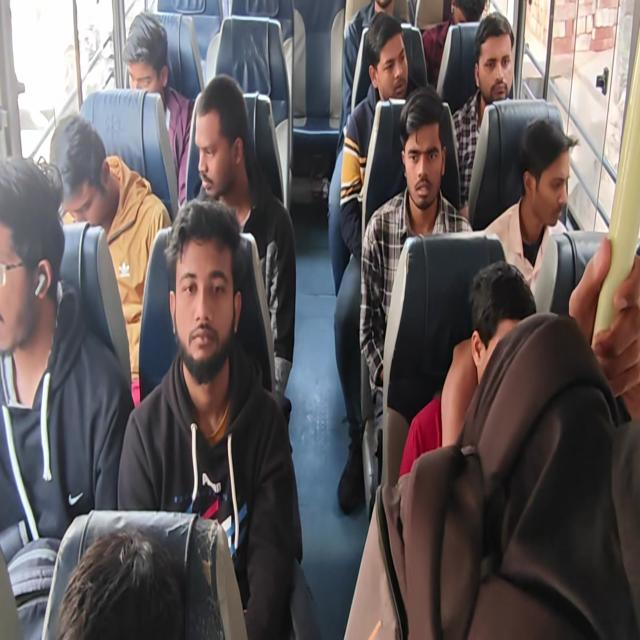person: (44, 514, 194, 636), (162, 198, 246, 389), (2, 151, 64, 358), (36, 110, 122, 235), (187, 68, 255, 196), (461, 261, 535, 372), (401, 92, 449, 228), (522, 114, 571, 228), (356, 22, 422, 102), (116, 12, 178, 95), (470, 16, 521, 116), (445, 0, 485, 23), (368, 0, 395, 15)
